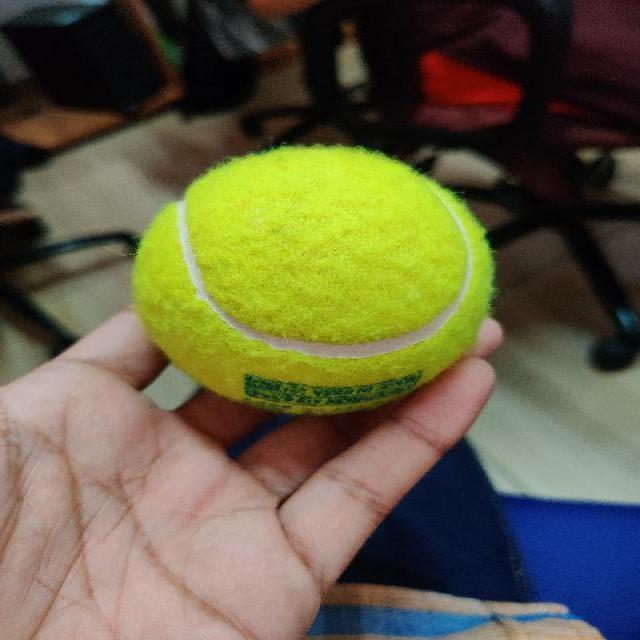tennis-ball: (133, 148, 491, 413)
